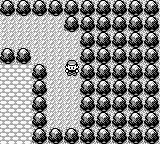main: (65, 61, 79, 76)
no-caminable: (0, 48, 31, 63)
